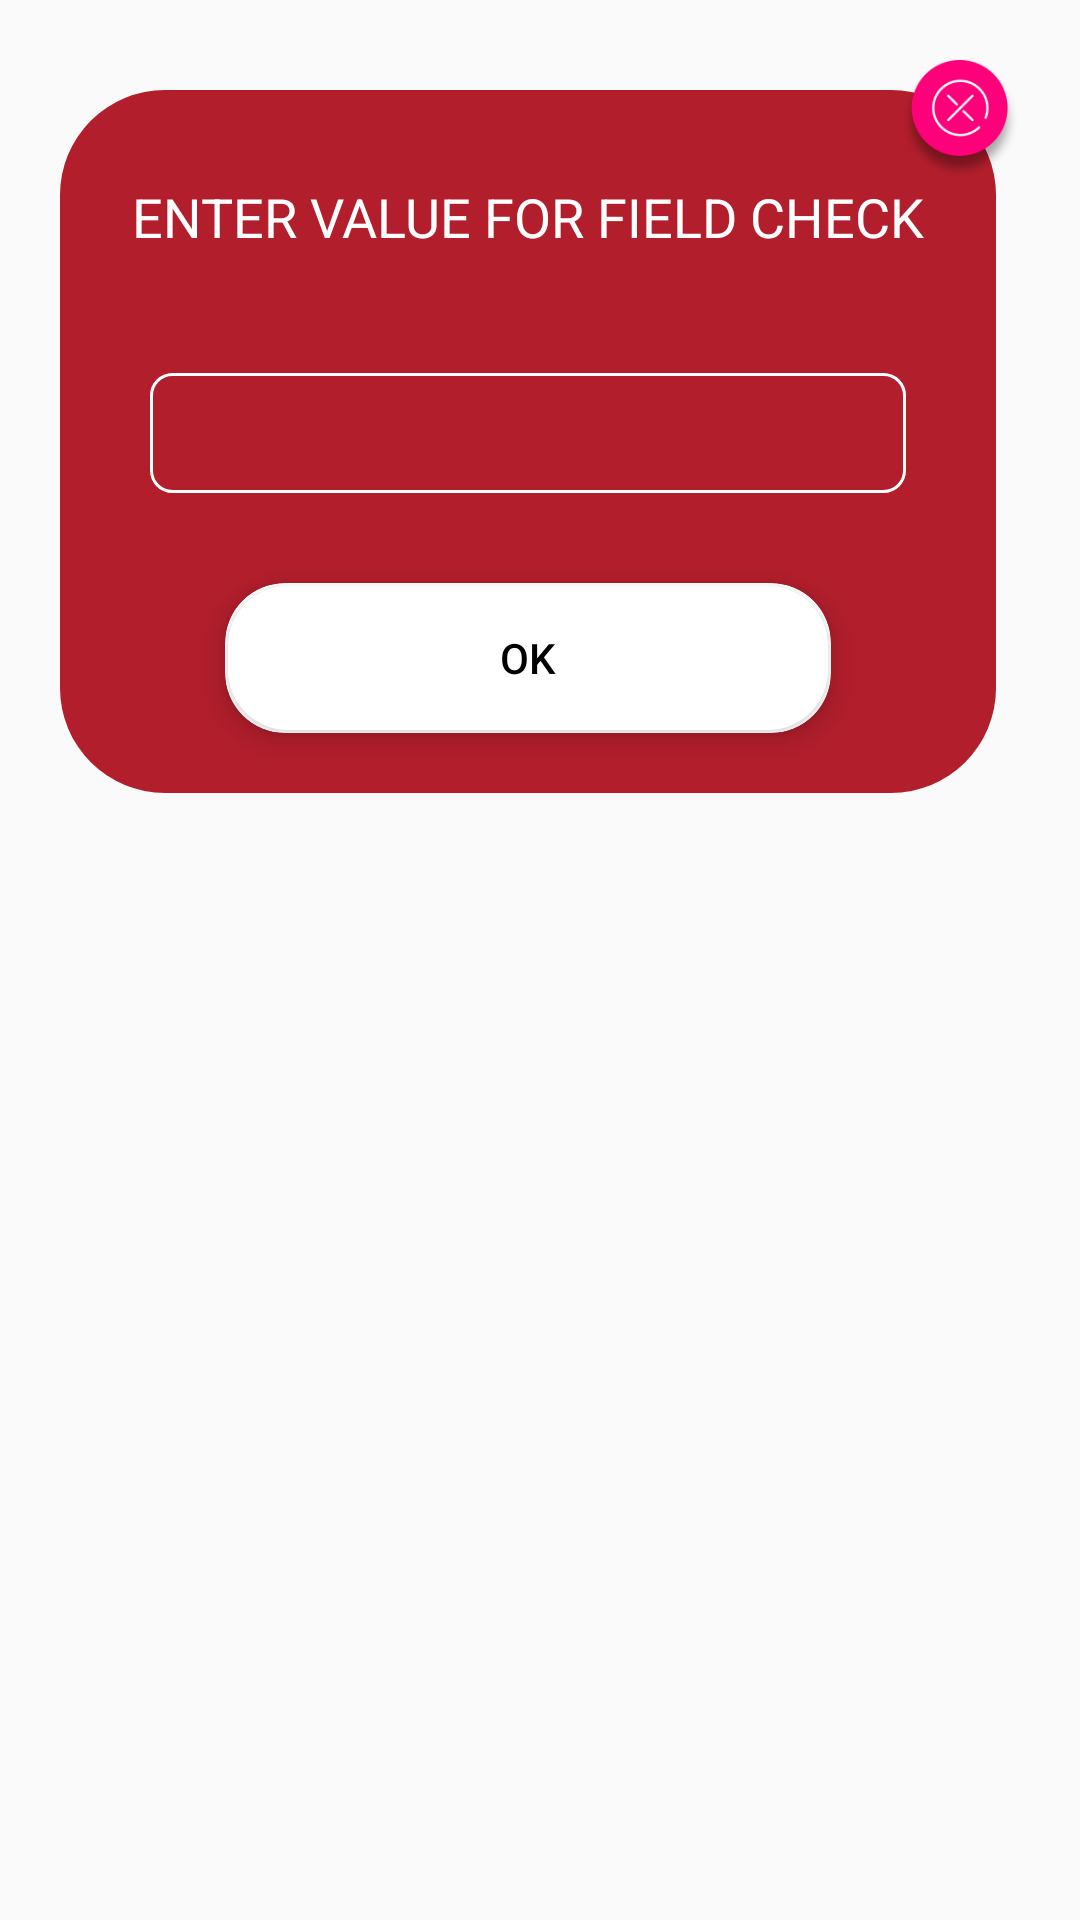

Screen size 1080×1920. Icon name, then its box in pixels as (x1, y1, x2, y2):
cross: (900, 60, 1010, 180)
